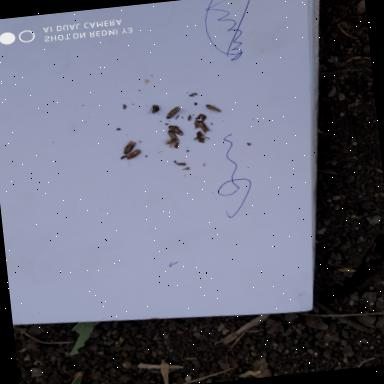pbw: (121, 140, 138, 156), (168, 123, 186, 138), (165, 106, 183, 120), (126, 149, 144, 162), (164, 128, 180, 142), (198, 119, 212, 135), (206, 102, 223, 115)
